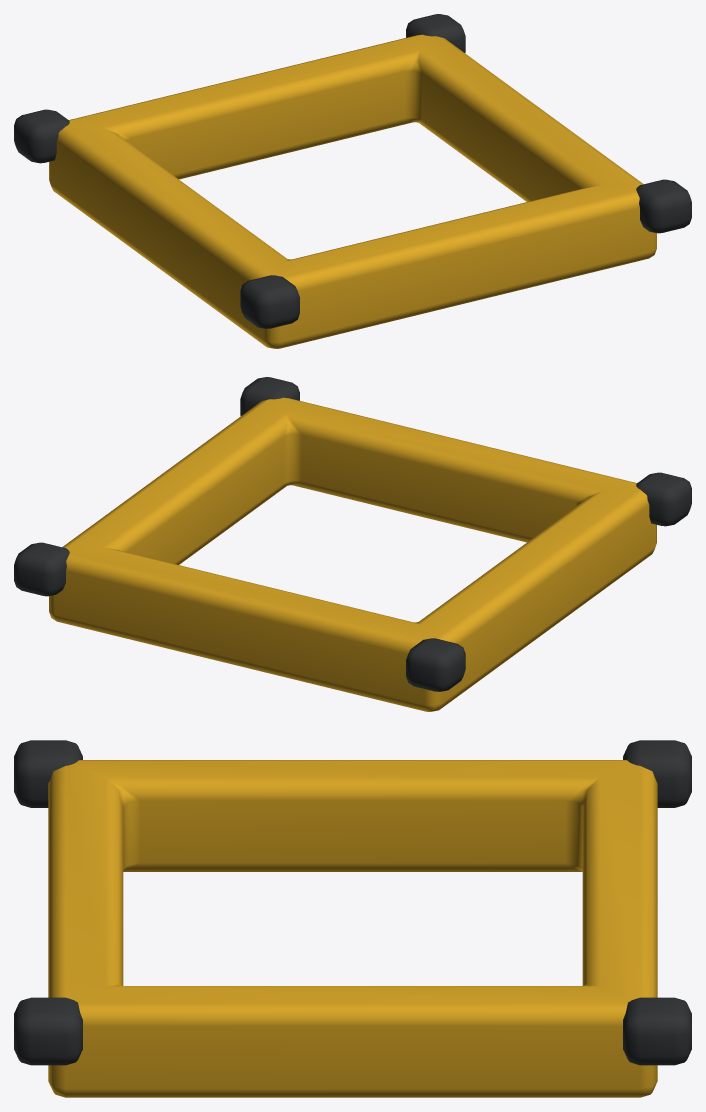
File: container-rim.glb
The picture shows the model from 3 angles, top to bottom: view 1: azimuth 30°, elevation 25°; view 2: azimuth 150°, elevation 25°; view 3: azimuth 270°, elevation 25°; orthographic projection. The views are drawn at different scales.
Parts seen in each view (by area): view 1: container-rim; view 2: container-rim; view 3: container-rim.
Part boxes in pixels (box(x1,y1,x2,y2)): container-rim: box(14, 14, 691, 348); container-rim: box(14, 377, 691, 711); container-rim: box(14, 740, 691, 1097).
Bounding box in the file's own units: 1.18 × 0.19 × 1.18.
